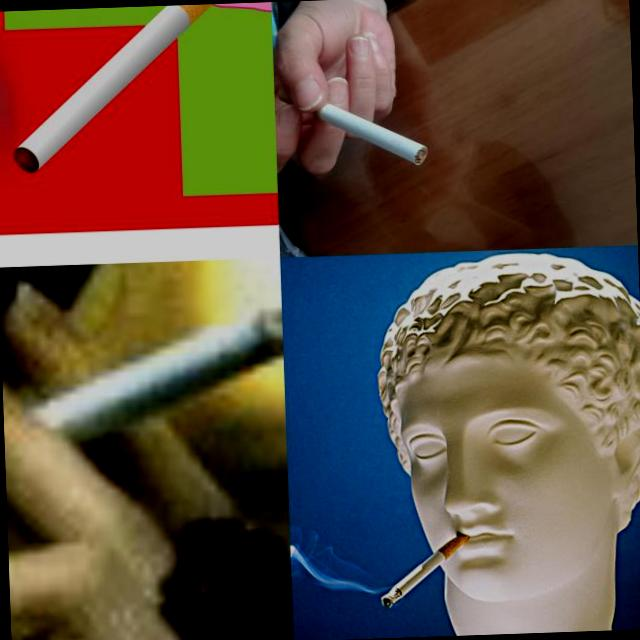cigarette: (0, 297, 287, 491), (6, 2, 242, 172), (276, 80, 428, 170), (376, 532, 474, 610)
